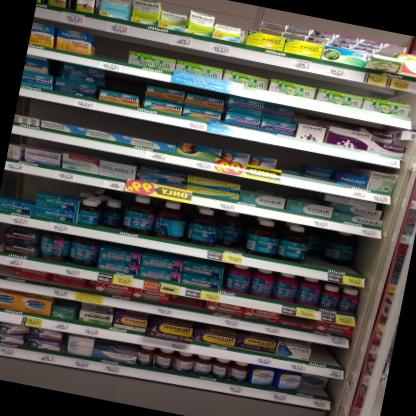empty_space: (89, 29, 131, 64), (300, 254, 361, 277), (312, 341, 345, 367), (298, 382, 327, 397)
